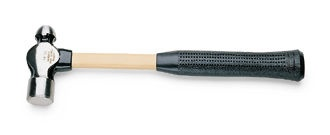hammer: (26, 23, 307, 106)
